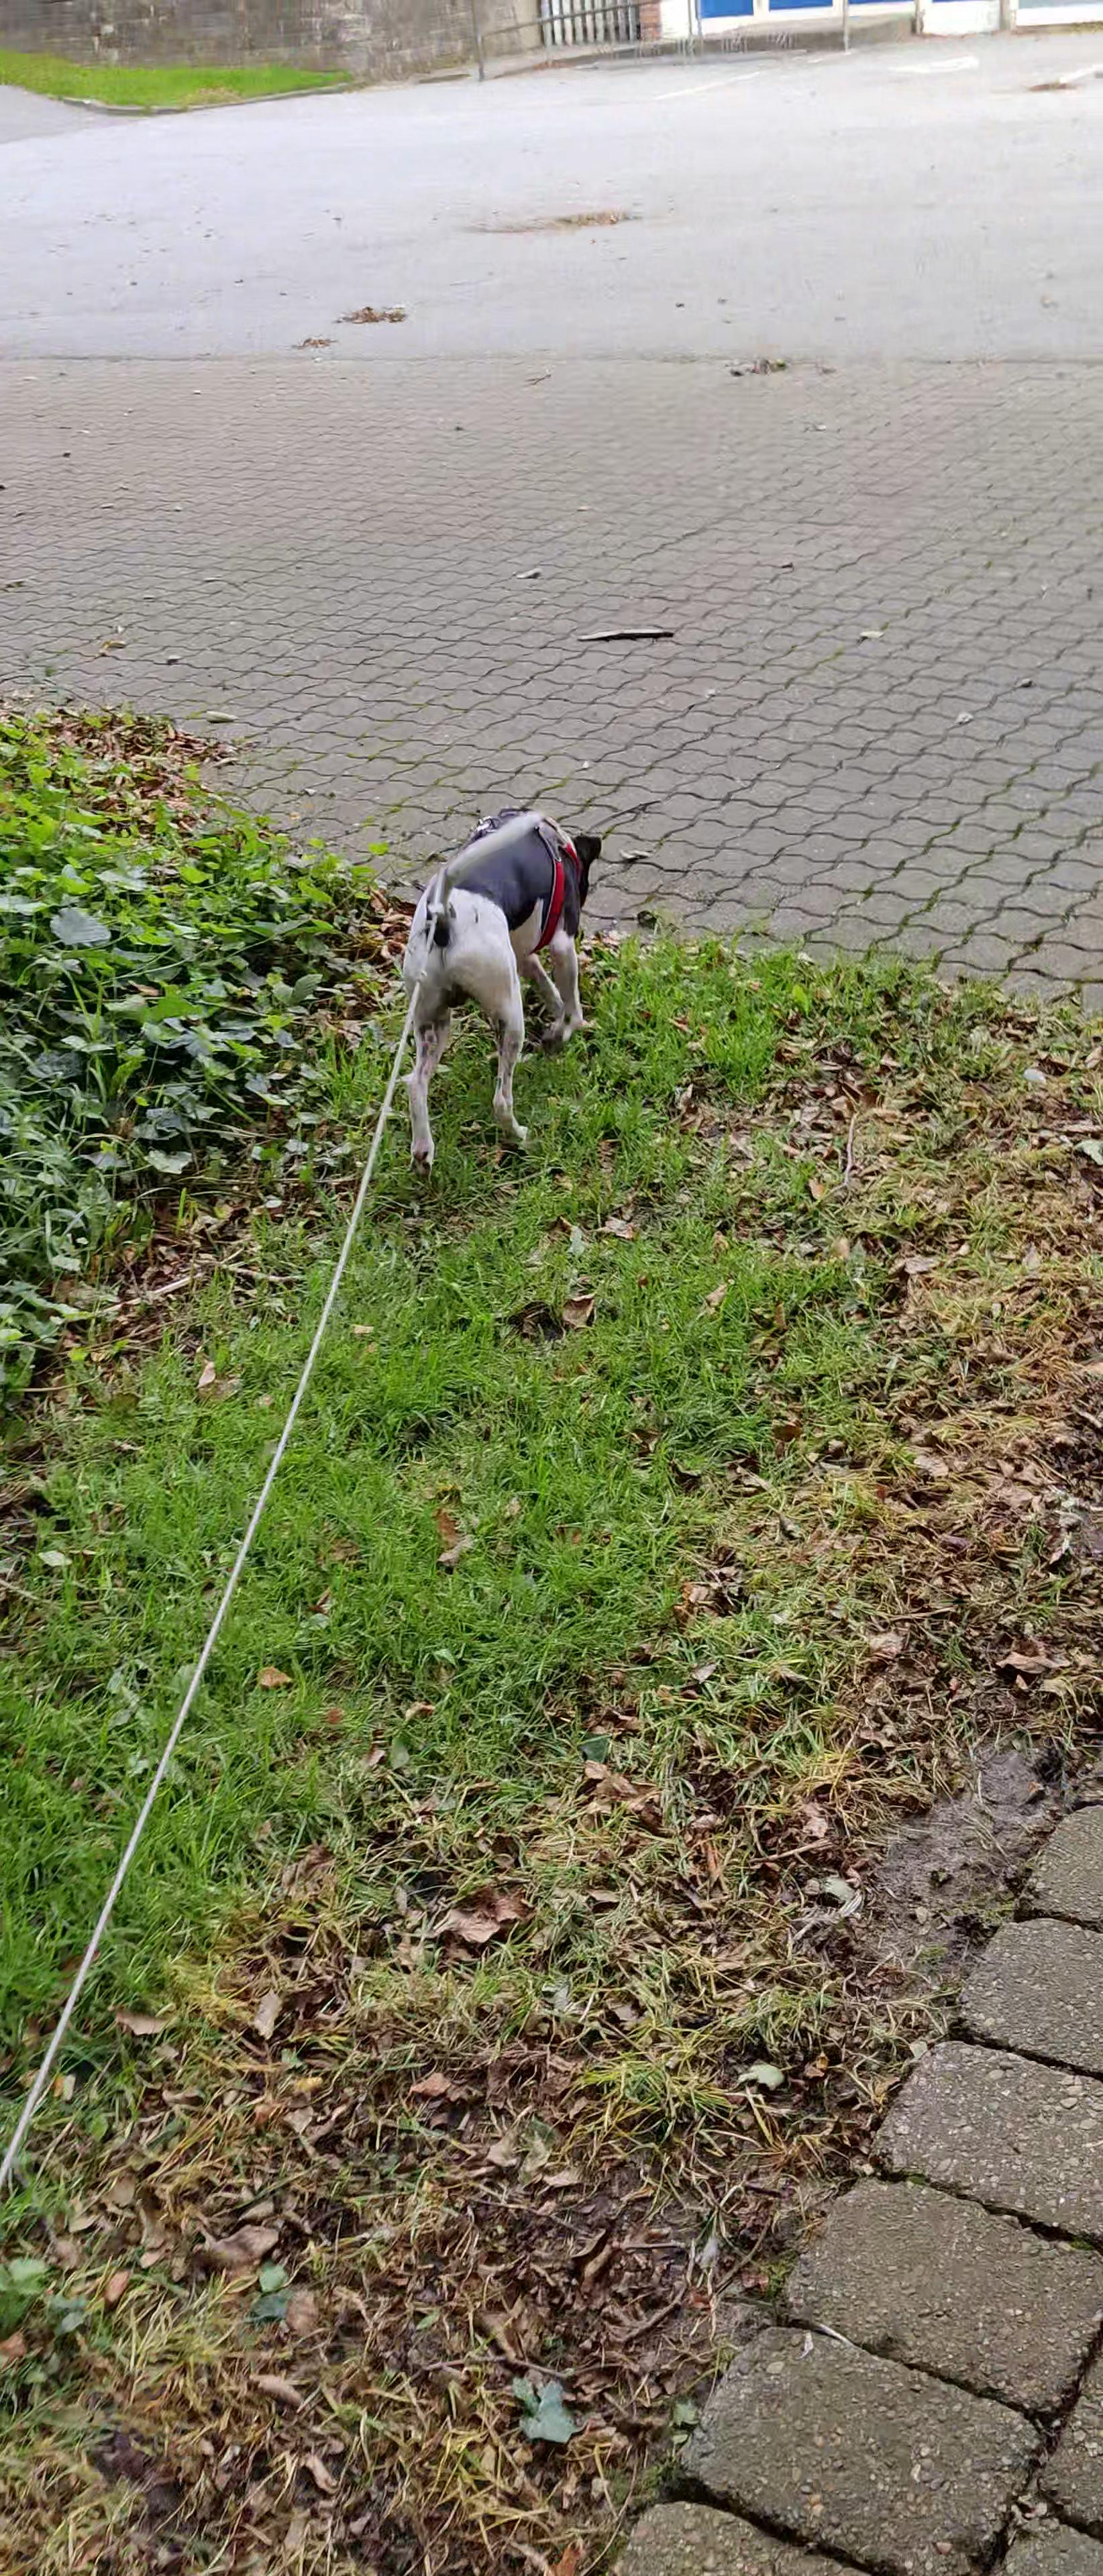Dog: (380, 777, 635, 1188)
